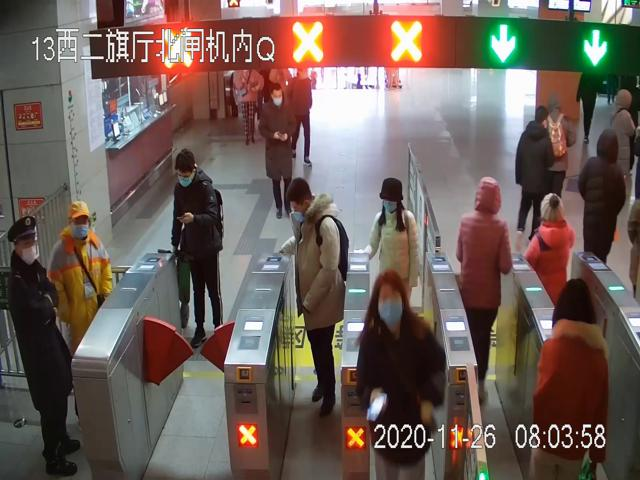person: (3, 217, 81, 476), (280, 180, 347, 416), (48, 200, 113, 423), (456, 177, 512, 404), (165, 148, 226, 352), (369, 177, 420, 315), (517, 106, 555, 245), (258, 85, 296, 218)
